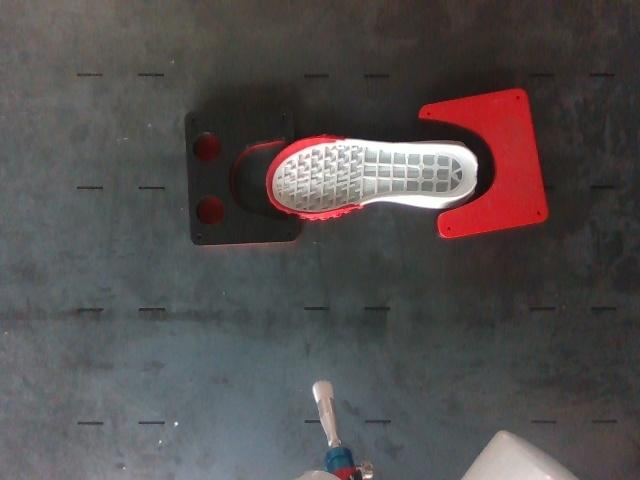shoes: (267, 138, 478, 215)
